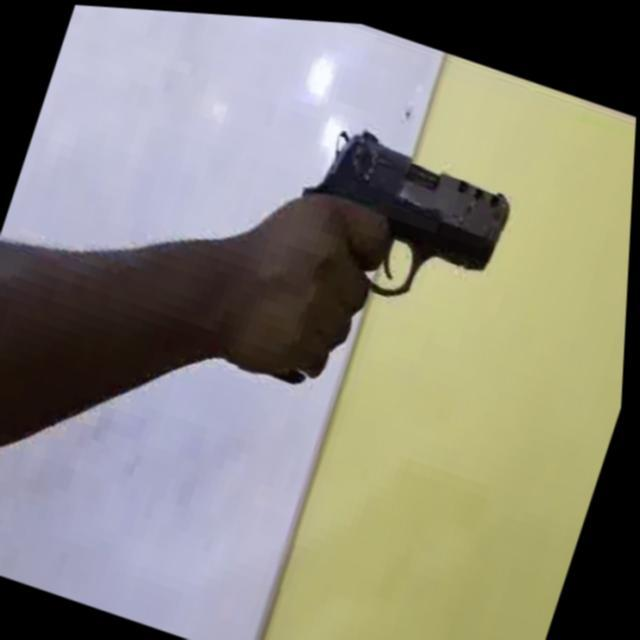weapon: (277, 106, 524, 326)
